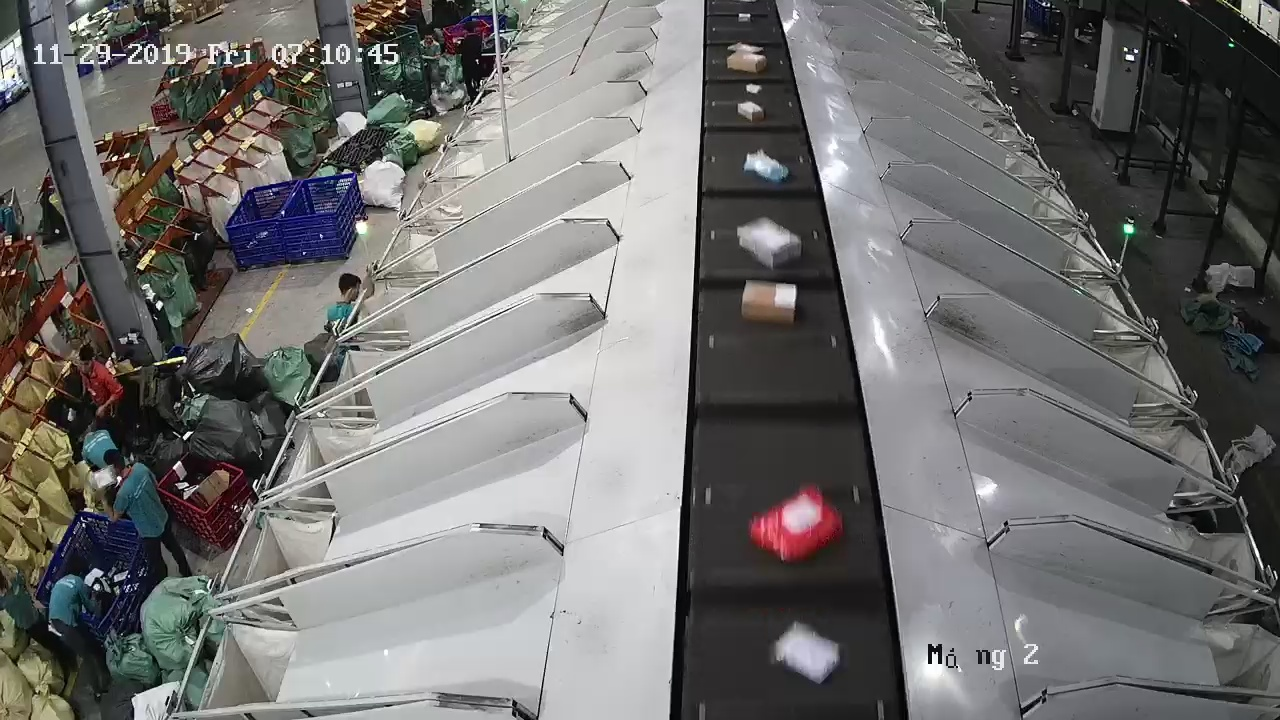parcel: (748, 486, 845, 565), (774, 622, 840, 685), (736, 217, 803, 269), (742, 280, 797, 326), (742, 150, 790, 183)
